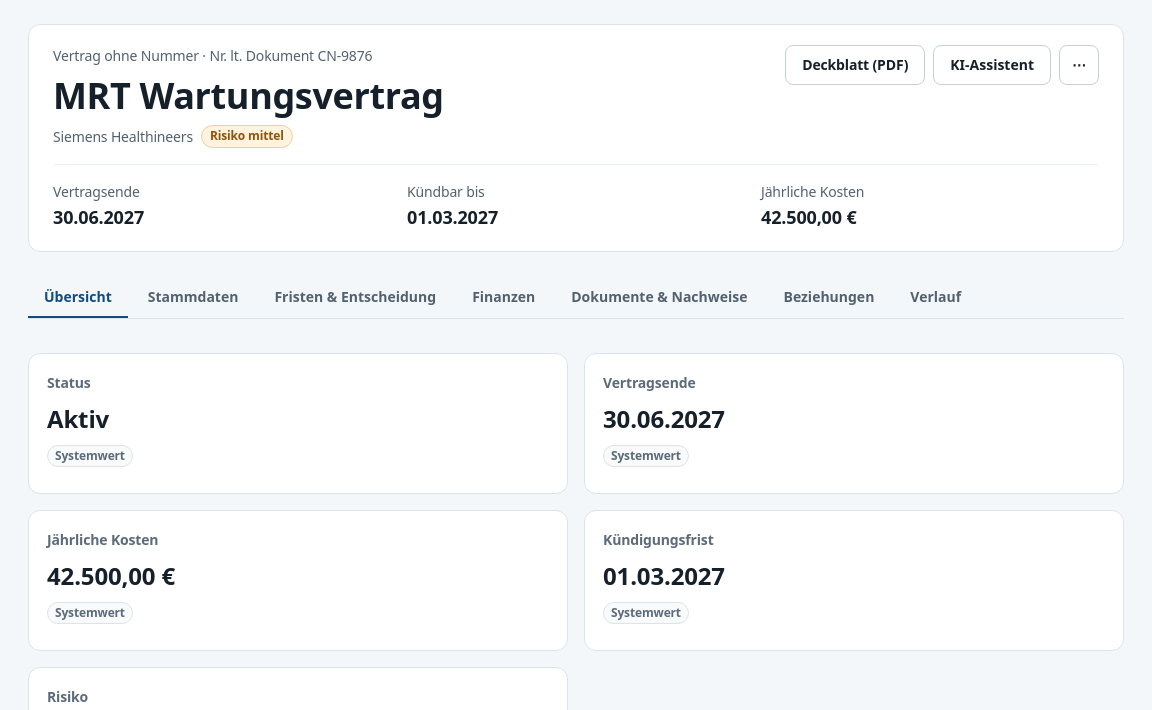
Test: Vertrags-Detail + Quellenanzeige (tabbed Contract Workspace) › behält beim Wechsel zwischen Quelle und Vertrags-Tabs den Workspace-Kontext
expect the heading "MRT Wartungsvertrag" is shown: met, box [53,71,444,120]
Step 1. Click the tab "Dokumente & Nachweise" → (659,298), box [555,278,764,318]
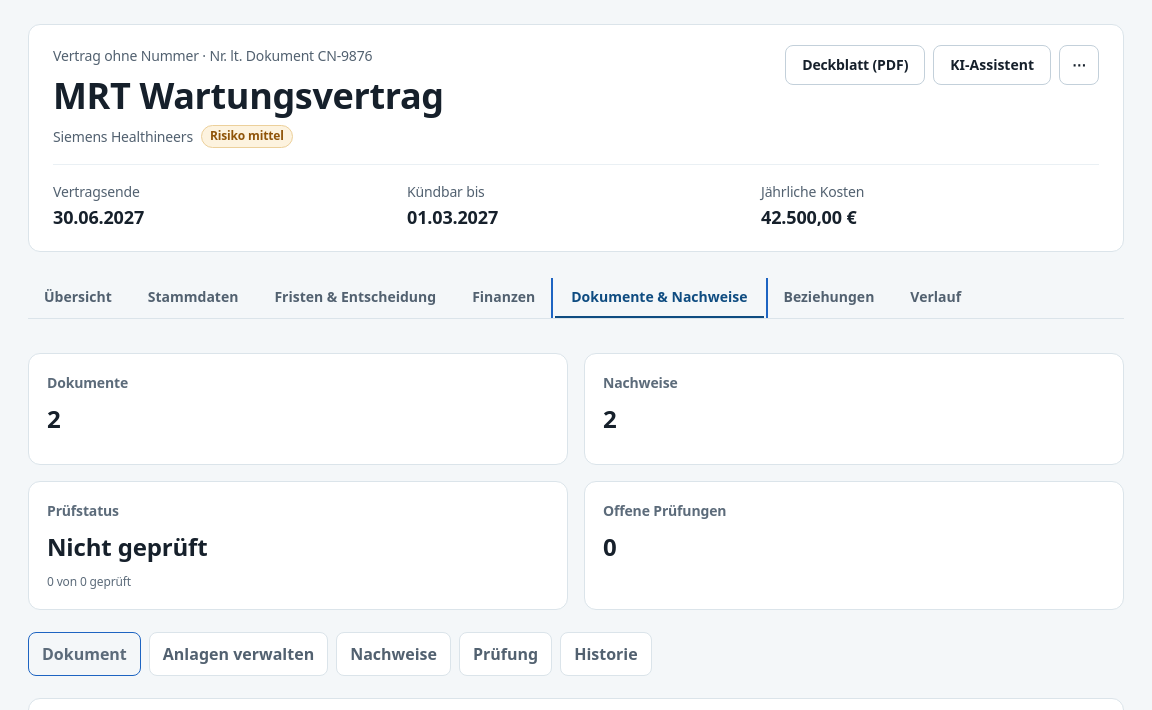
Step 2. Click the button "Nachweise" → (394,654), box [336,632,451,676]
(page scrolled)
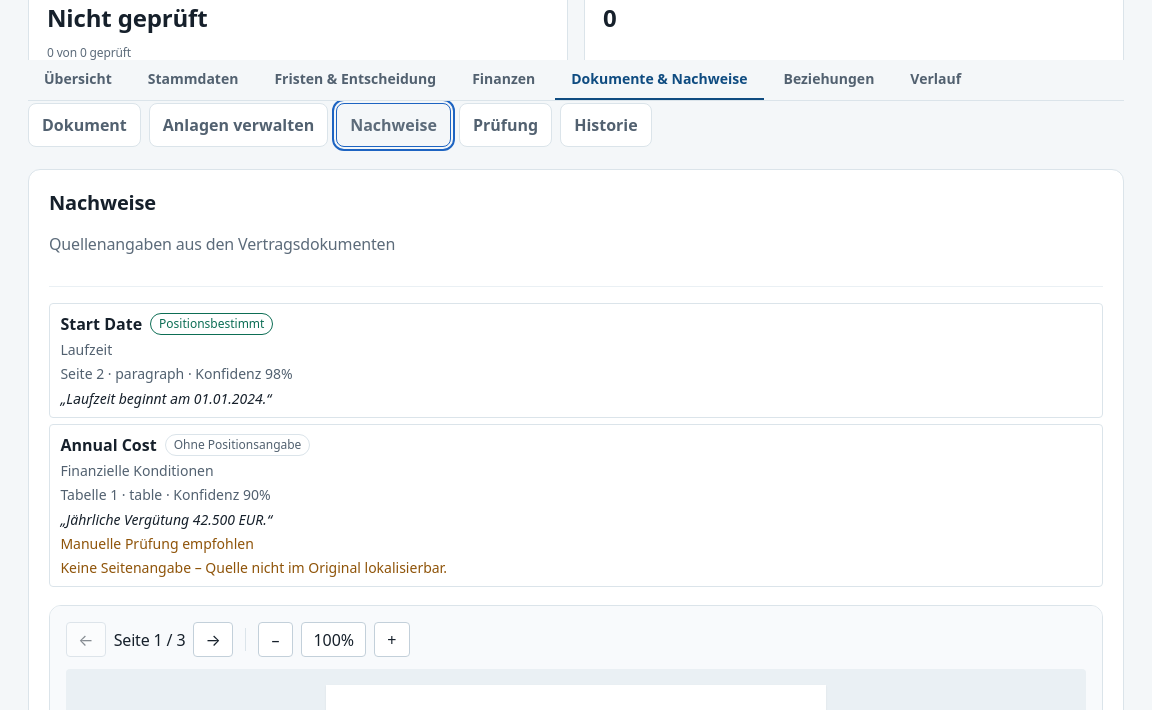
Step 3. Click the button "start date" → (101,324), box [49,303,1103,418]
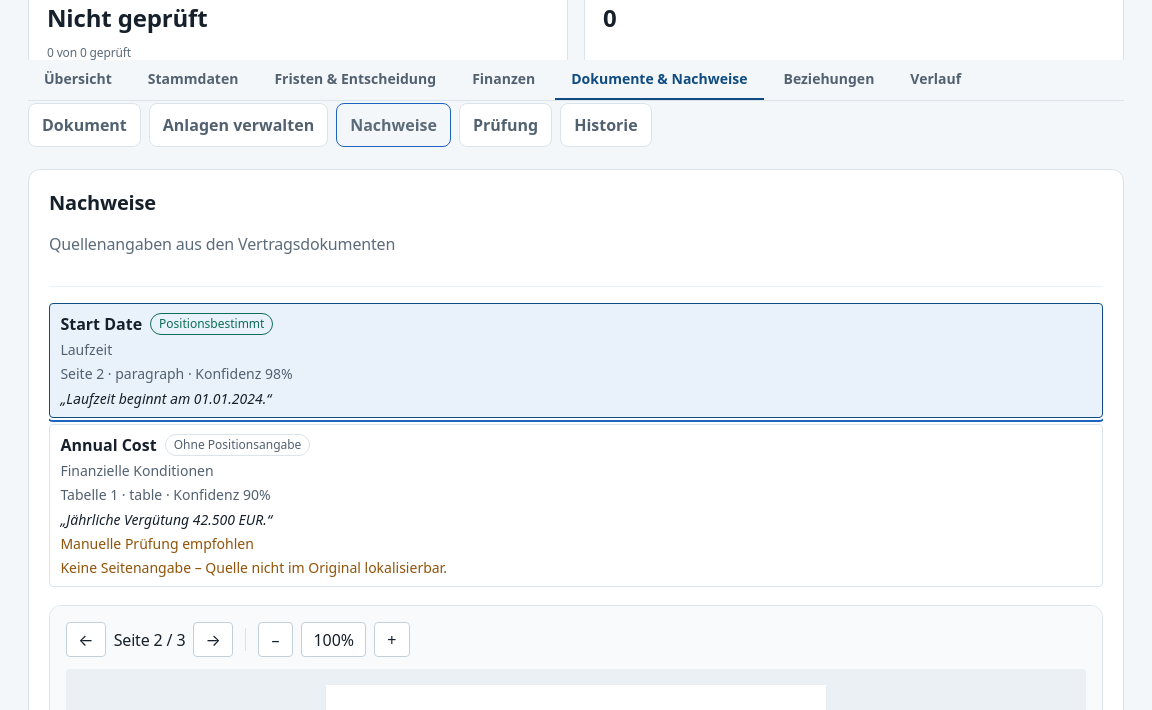
expect the text "Seite 2 / 3" is shown: met, box [114,628,185,652]
Step 4. Click the tab "Übersicht" → (78,80), box [28,60,128,100]
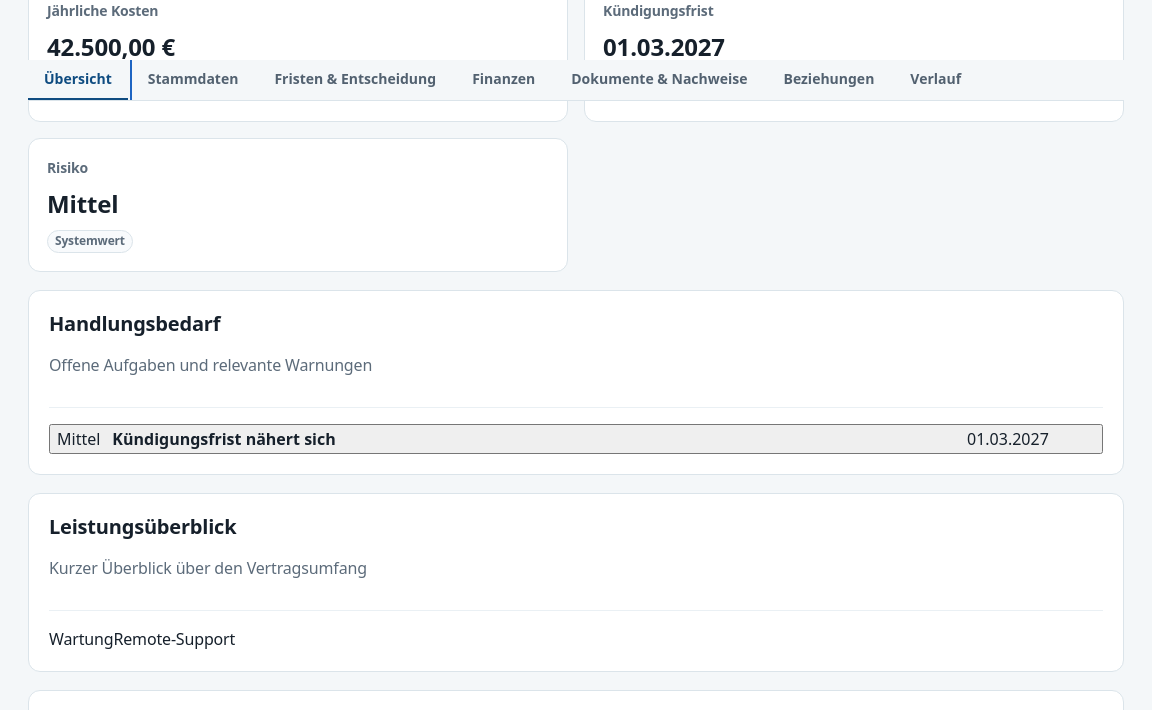
expect the text "Kündigungsfrist nähert sich" is shown: met, box [112,428,336,450]
